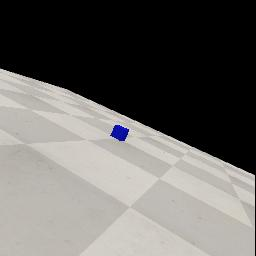box: (110, 125, 129, 141)
